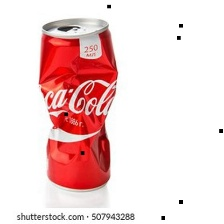can: (35, 17, 123, 197)
